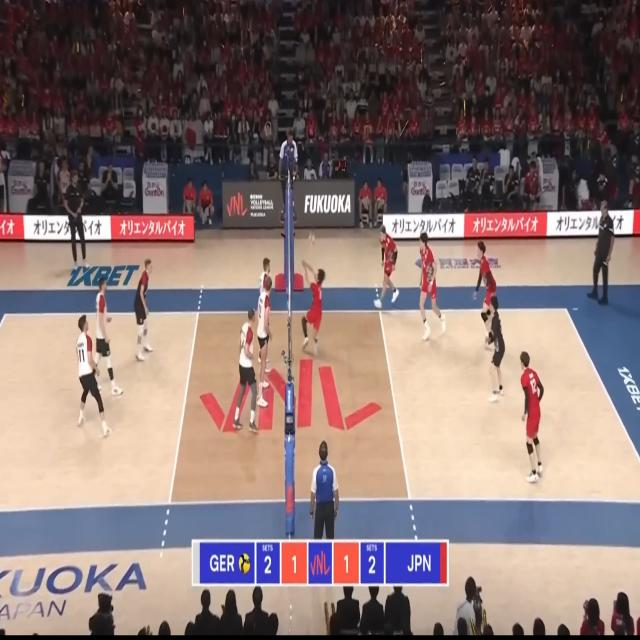ball: (308, 233, 316, 247)
